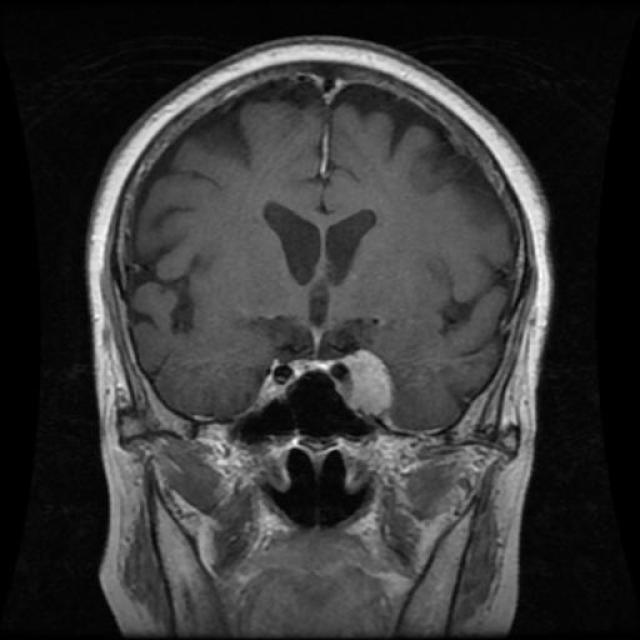meningioma: (346, 352, 391, 415)
